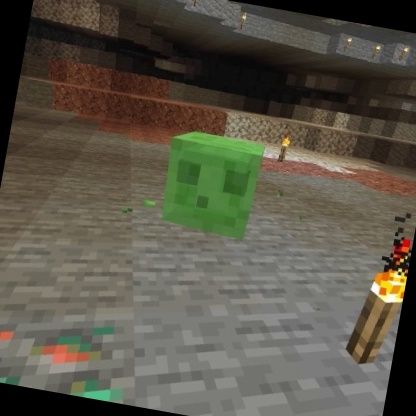slime: (154, 124, 271, 246)
